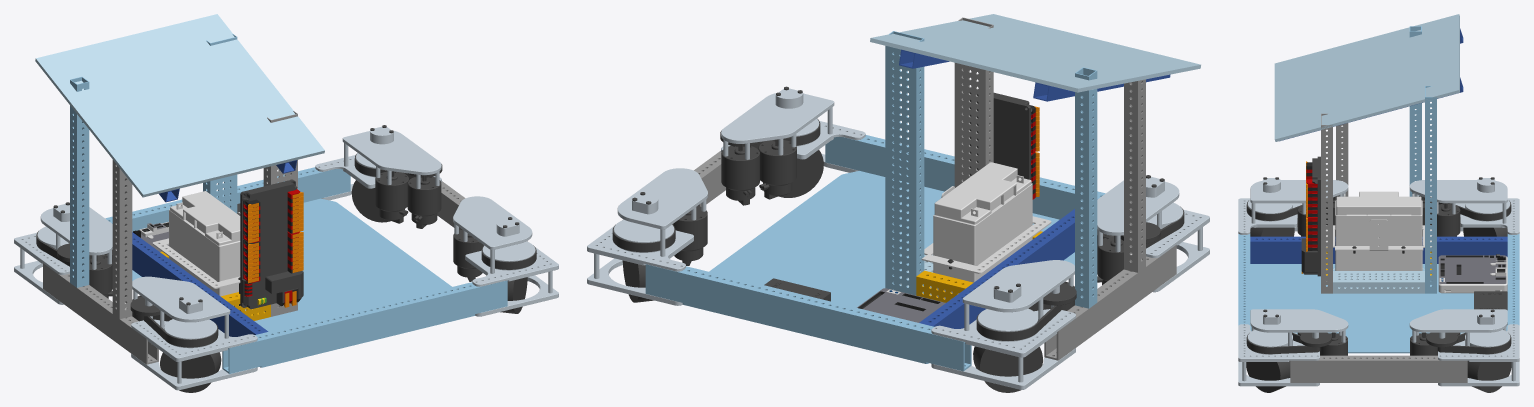
3 renders of one model, left to right at view 1: azimuth 30°, elevation 25°; view 2: azimuth 150°, elevation 25°; view 3: azimuth 270°, elevation 25°, orthographic. The views are drawn at different scales.
Parts seen in each view (by area): view 1: TableTop, Simplified MK4N (×4), BellyPan, Length (×2), Simplified PDH, MK ES17-12 Battery (2-Pack) (WCP-1492), Width (×2), Tube 1"x1"x15.689", Tube 1"x1"x13.171", Tube 2"x1"x21", Tube 2.2"x1"x17.689", Tube 2.2"x1"x15.171" (+3 smaller); view 2: Simplified MK4N (×4), Length (×2), BellyPan, TableTop, Tube 2.2"x1"x17.689", MK ES17-12 Battery (2-Pack) (WCP-1492), Width (×2), Tube 1"x1"x15.689", Tube 2.2"x1"x15.171", Tube 1"x1"x13.171", Simplified PDH, Tube 2"x1"x21" (+5 smaller); view 3: Simplified MK4N (×4), TableTop, BellyPan, MK ES17-12 Battery (2-Pack) (WCP-1492), Width, Tube 2"x1"x21", id157, Length (×2), Tube 2.2"x1"x17.689", Tube 2.2"x1"x7.5", Tube 2.2"x1"x15.171", Simplified PDH (+4 smaller).
Part boxes in pixels (left/top/right/bottom): TableTop: left=35, top=14, right=324, bottom=197; Simplified MK4N (×4): left=14, top=125, right=558, bottom=392; BellyPan: left=132, top=198, right=475, bottom=367; Length (×2): left=105, top=167, right=507, bottom=373; Simplified PDH: left=240, top=179, right=303, bottom=309; MK ES17-12 Battery (2-Pack) (WCP-1492): left=169, top=191, right=246, bottom=310; Width (×2): left=43, top=181, right=465, bottom=364; Tube 1"x1"x15.689": left=70, top=77, right=89, bottom=287; Tube 1"x1"x13.171": left=112, top=160, right=132, bottom=318; Tube 2"x1"x21": left=132, top=232, right=268, bottom=336; Tube 2.2"x1"x17.689": left=203, top=34, right=237, bottom=213; Tube 2.2"x1"x15.171": left=263, top=111, right=297, bottom=316; Simplified MK4N (×4): left=587, top=86, right=1209, bottom=392; Length (×2): left=645, top=135, right=1105, bottom=371; BellyPan: left=682, top=171, right=1074, bottom=363; TableTop: left=870, top=14, right=1200, bottom=92; Tube 2.2"x1"x17.689": left=885, top=31, right=924, bottom=295; MK ES17-12 Battery (2-Pack) (WCP-1492): left=933, top=162, right=1032, bottom=299; Width (×2): left=694, top=151, right=1176, bottom=360; Tube 1"x1"x15.689": left=1075, top=67, right=1097, bottom=308; Tube 2.2"x1"x15.171": left=954, top=17, right=993, bottom=187; Tube 1"x1"x13.171": left=1124, top=79, right=1145, bottom=272; Simplified PDH: left=969, top=92, right=1039, bottom=199; Tube 2"x1"x21": left=919, top=209, right=1074, bottom=328; Simplified MK4N (×4): left=1238, top=177, right=1519, bottom=392; TableTop: left=1274, top=14, right=1459, bottom=141; BellyPan: left=1250, top=264, right=1507, bottom=353; MK ES17-12 Battery (2-Pack) (WCP-1492): left=1335, top=191, right=1422, bottom=277; Width: left=1290, top=355, right=1467, bottom=382; Tube 2"x1"x21": left=1250, top=236, right=1507, bottom=263; id157: left=1438, top=254, right=1507, bottom=293; Length (×2): left=1238, top=234, right=1519, bottom=325; Tube 2.2"x1"x17.689": left=1425, top=86, right=1436, bottom=293; Tube 2.2"x1"x7.5": left=1333, top=271, right=1424, bottom=293; Tube 2.2"x1"x15.171": left=1321, top=113, right=1332, bottom=293; Simplified PDH: left=1301, top=156, right=1320, bottom=276.
Bounding box in the file's own units: 0.8128 × 0.5102 × 0.5842.
